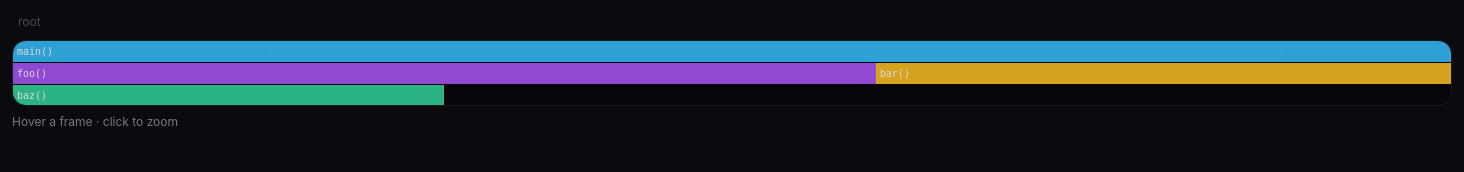
FlameGraph › renders root button for zoom-out navigation
Step 1. Click the button titled "main()" → (35, 52), box [13, 41, 1451, 62]
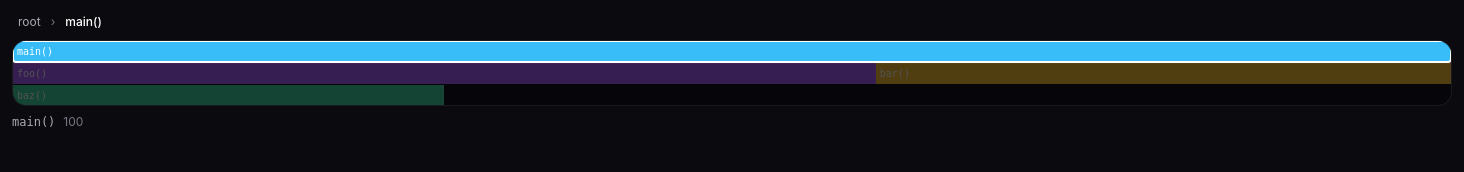
Now the button "root" is enabled
// Clicking the root button zooms out, which disables it again.
Step 2. Click the button "root" → (29, 22), box [12, 12, 47, 32]
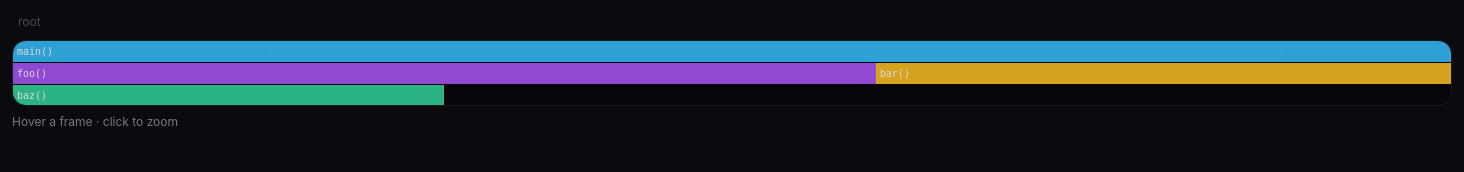
Now the button "root" is disabled, box [12, 12, 47, 32]
